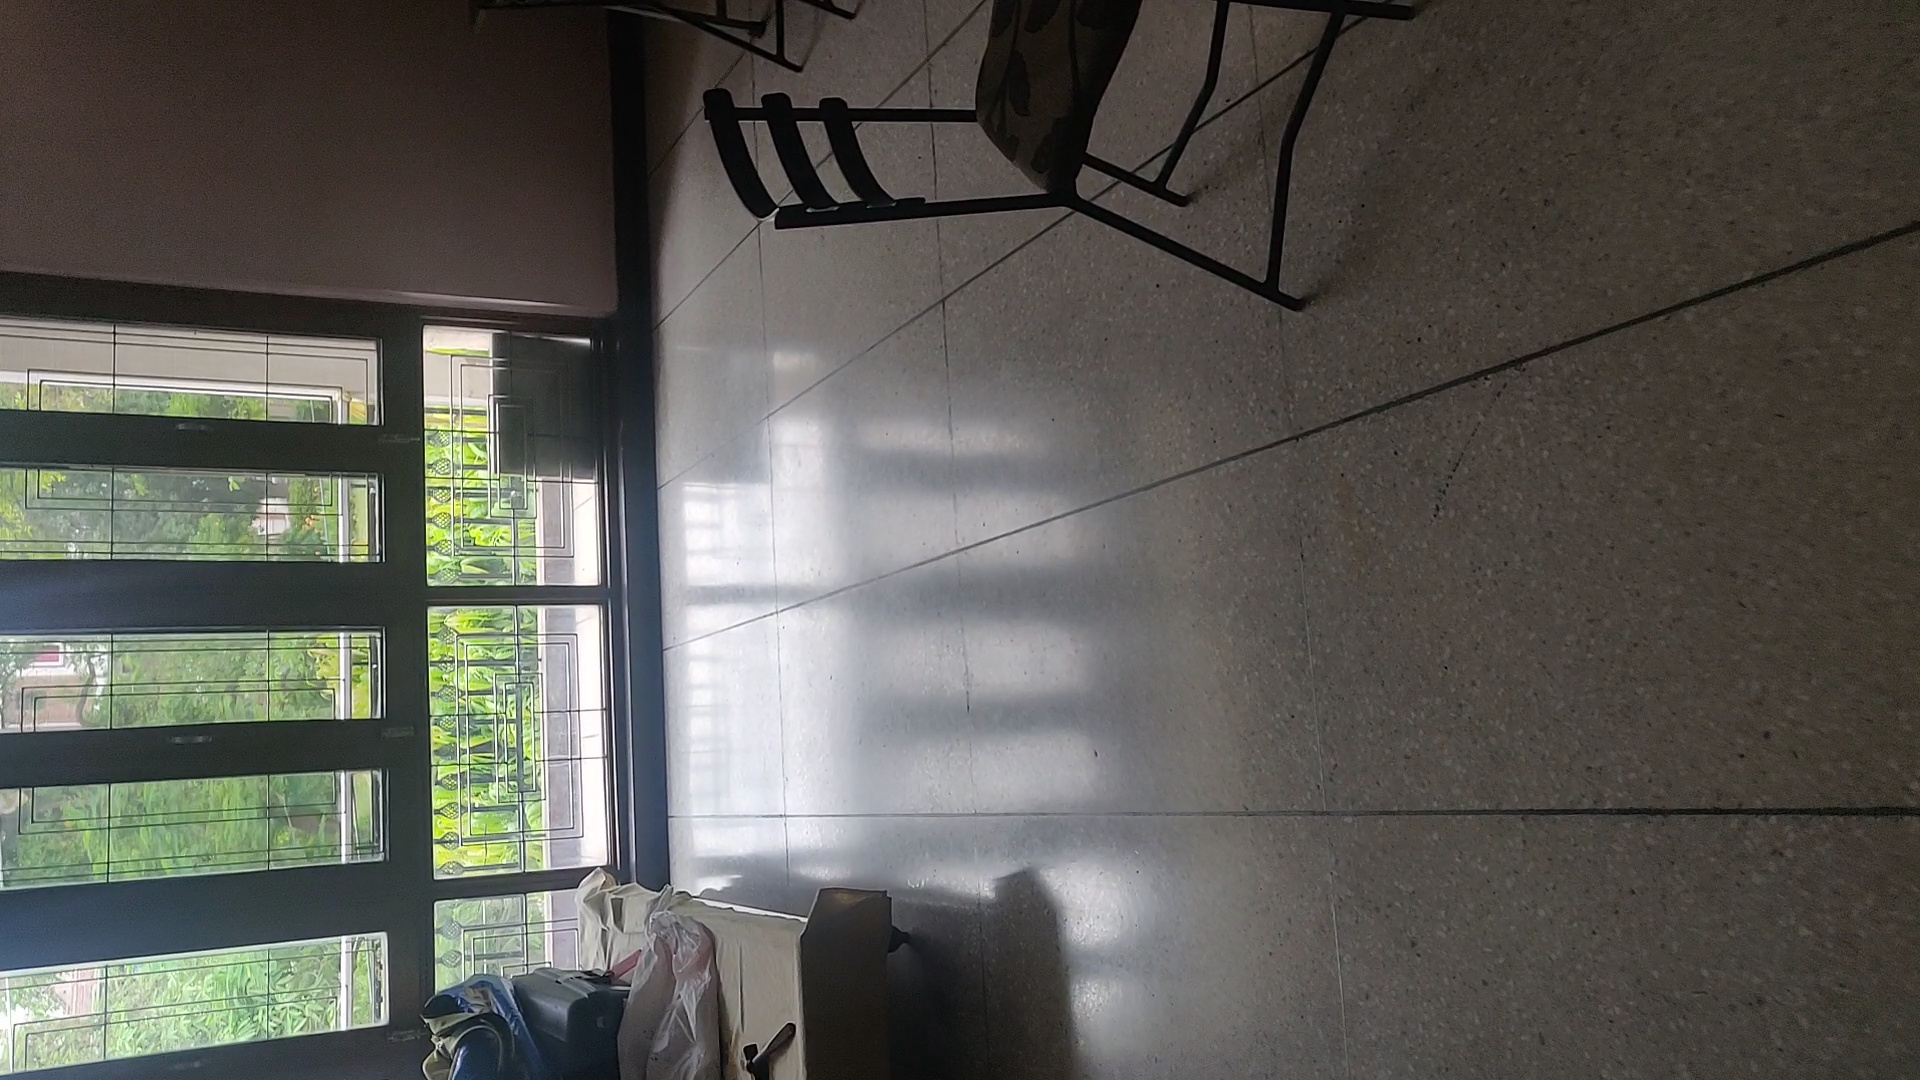hammer: (742, 1021, 796, 1080)
